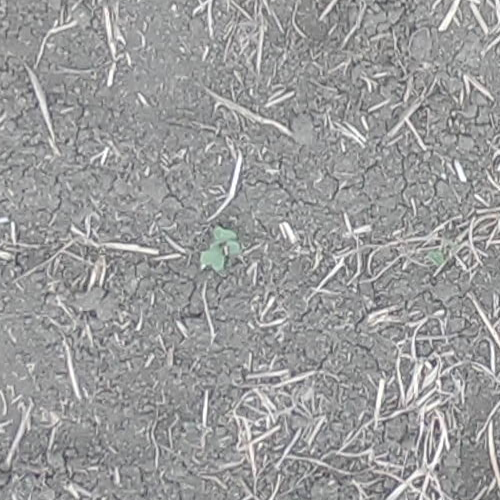plant: (198, 225, 241, 273), (427, 249, 445, 266)
